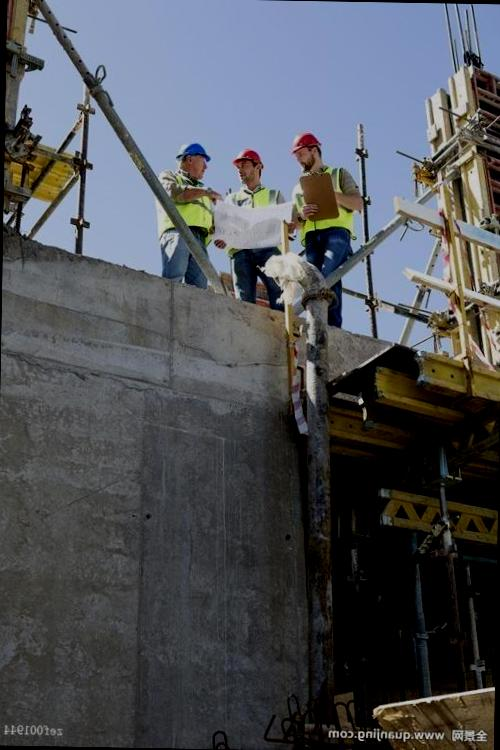helmet: (292, 130, 319, 152), (179, 142, 208, 160), (235, 150, 263, 166)
person: (288, 126, 354, 298), (221, 150, 283, 304), (156, 143, 216, 286)
